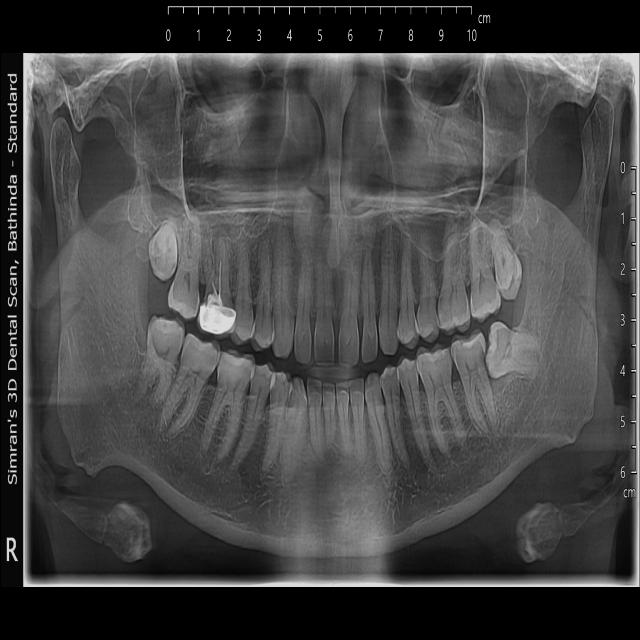Caries: (478, 351, 485, 366)
Crown: (196, 303, 235, 336)
Mandibular Canal: (400, 265, 575, 492), (86, 293, 241, 491)
Root Canal Treatment: (217, 251, 222, 299)
impacted tooth: (486, 321, 543, 382), (145, 216, 180, 283)
maxillary sinus: (378, 53, 529, 263), (132, 51, 287, 244)
